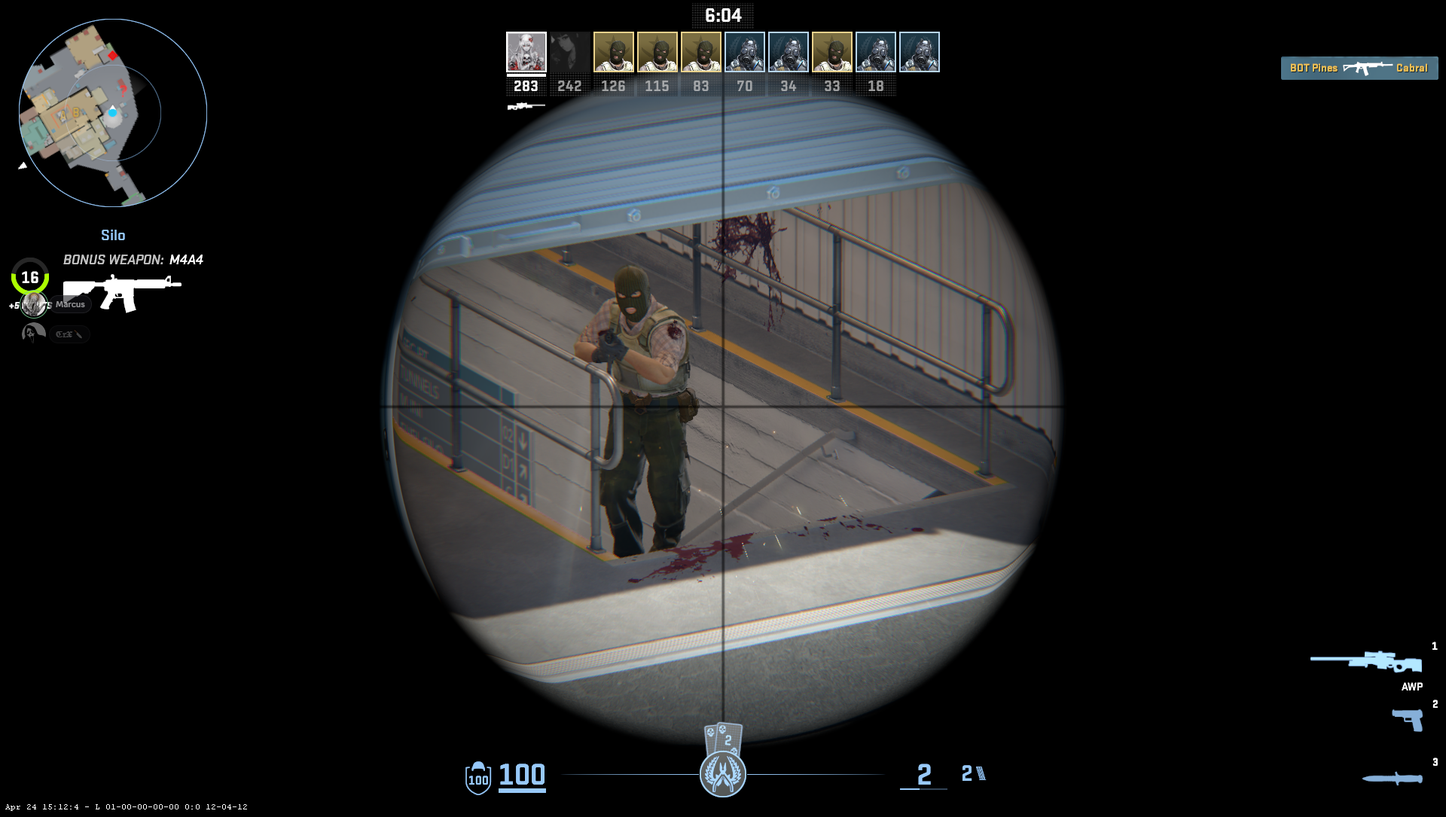T: (577, 266, 696, 554)
